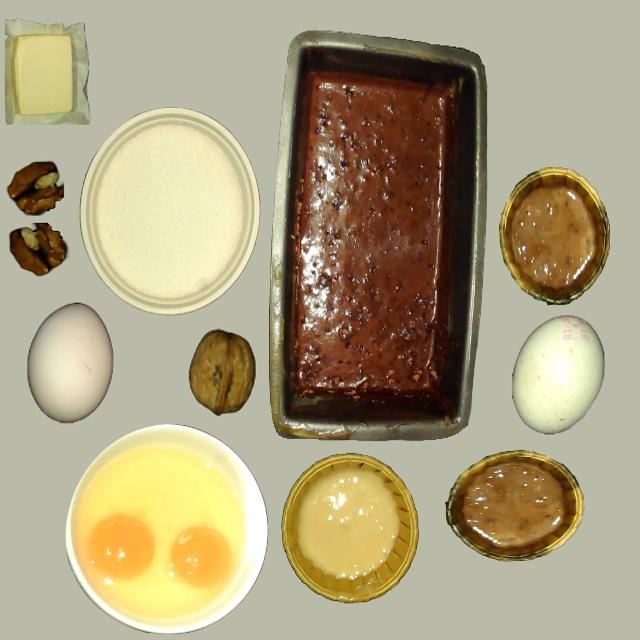Egg: (87, 514, 155, 581), (169, 525, 232, 588)
Sugar: (93, 121, 244, 304)
Walnut: (189, 331, 254, 415)
